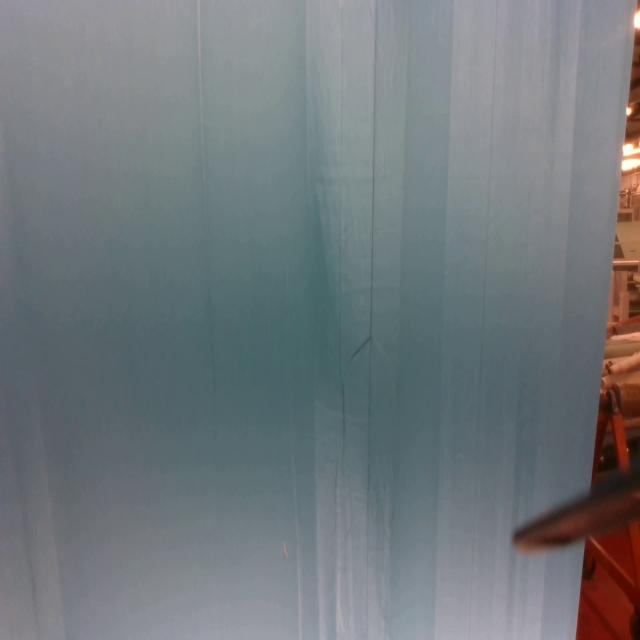crease: (467, 1, 500, 639), (364, 0, 381, 638), (338, 0, 347, 460), (196, 0, 208, 216)
hole: (282, 540, 289, 560)
